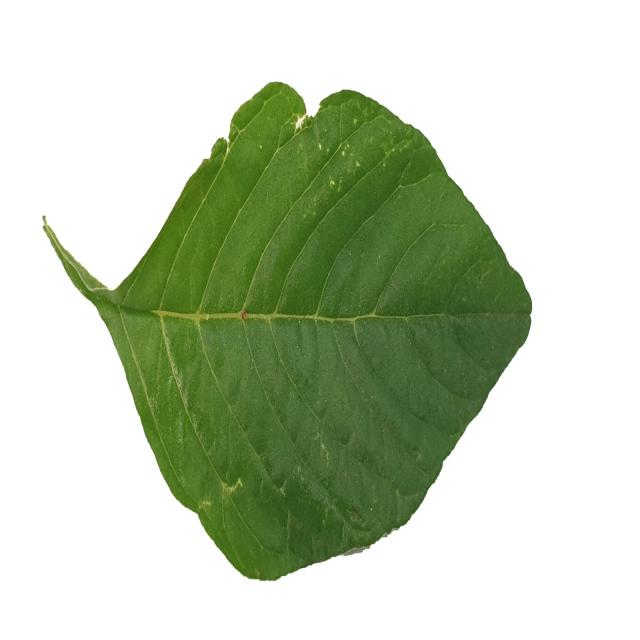Medicinal-Arive Dantu: (46, 81, 531, 584)
